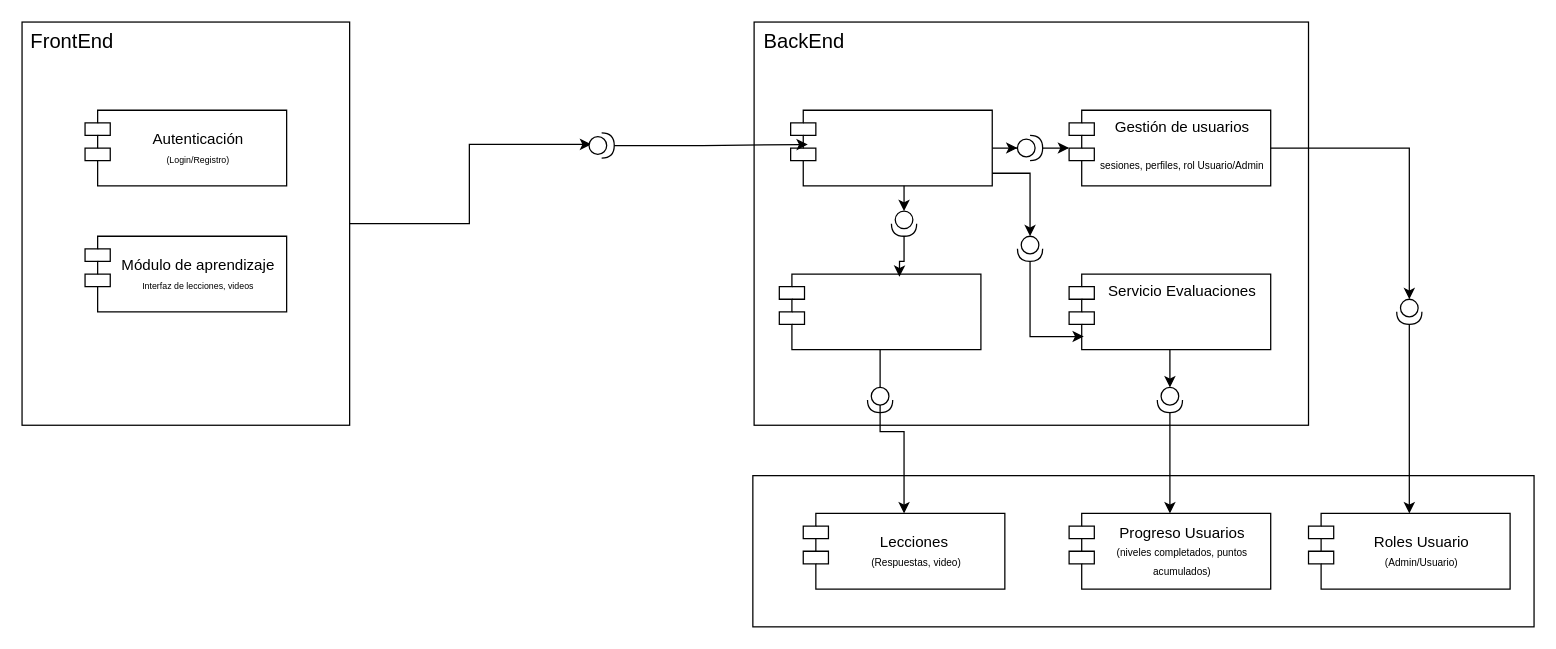
The diagram is 1556 pixels wide and 649 high, and some of its shapes have lost their labels. The shapes that lost their labels are listed below. From the top down, each one's centre as x and y in pixels, then its label:
At (x=890, y=147): "API REST".
At (x=879, y=311): "Servicio Contenidos lecciones, video-guías".
